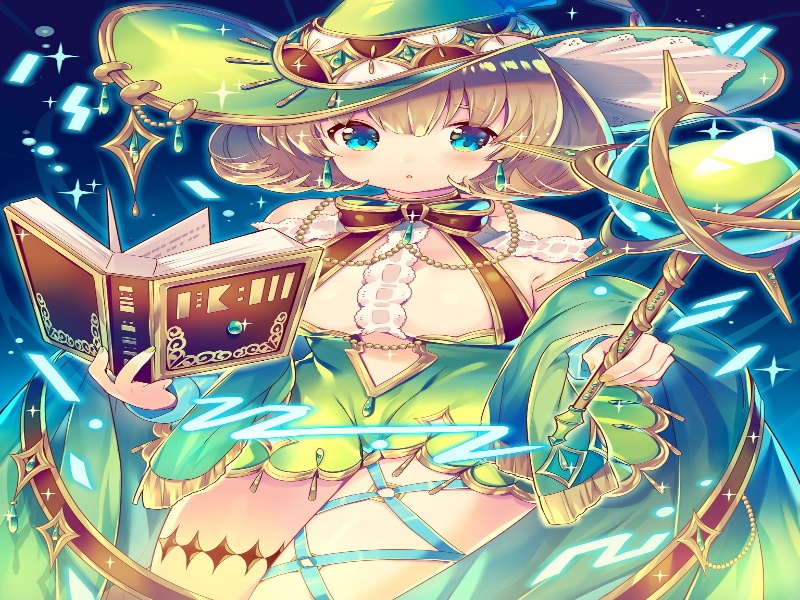book: (1, 195, 341, 395)
person: (247, 45, 600, 244)
